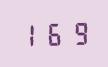nine: (65, 19, 87, 45)
one: (18, 21, 40, 47)
six: (42, 20, 64, 46)
